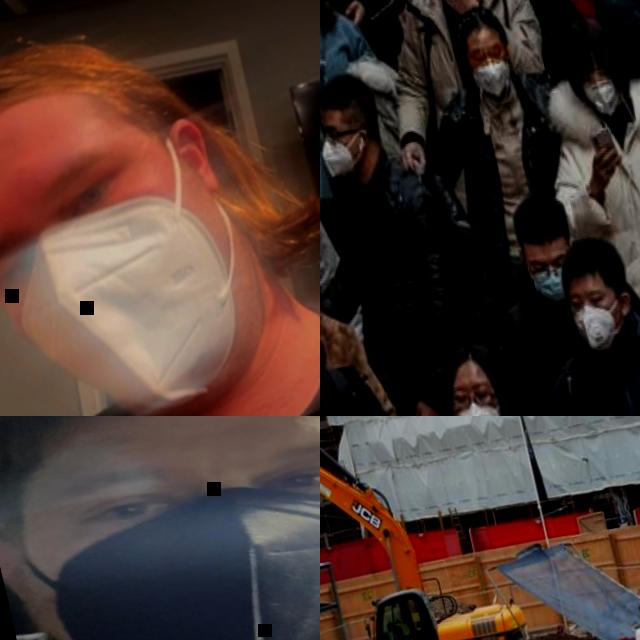Mask: (0, 173, 272, 416), (14, 456, 320, 640), (568, 298, 631, 355), (470, 56, 516, 102), (320, 134, 360, 185), (525, 260, 569, 305), (582, 80, 621, 120), (447, 397, 503, 416)
NO-Hardhat: (0, 14, 154, 198), (0, 416, 320, 498), (556, 231, 631, 292), (504, 188, 571, 252), (554, 10, 616, 75), (320, 65, 376, 119), (440, 335, 496, 383), (449, 0, 504, 46), (383, 620, 392, 631)
NO-Safety Vest: (0, 267, 320, 416), (332, 167, 459, 393), (564, 107, 640, 343), (503, 289, 585, 403), (596, 0, 640, 189), (554, 334, 640, 416), (530, 0, 606, 50), (320, 362, 370, 416), (320, 328, 361, 384)
Person: (0, 0, 320, 416), (0, 416, 320, 640), (320, 50, 494, 416), (394, 0, 587, 304), (518, 0, 640, 416), (360, 0, 574, 217), (465, 187, 610, 416), (570, 0, 640, 401), (505, 216, 640, 416), (320, 0, 405, 209), (320, 227, 411, 416), (320, 68, 366, 380), (398, 323, 546, 416), (320, 264, 408, 416), (505, 0, 640, 92), (382, 615, 415, 640)
Safety Vest: (392, 619, 413, 640)
vehicle: (320, 416, 545, 640), (461, 502, 640, 640)
